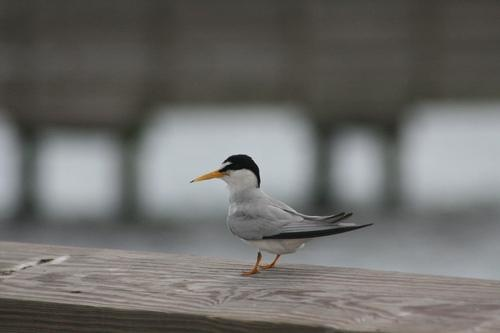bird: (183, 154, 373, 277)
